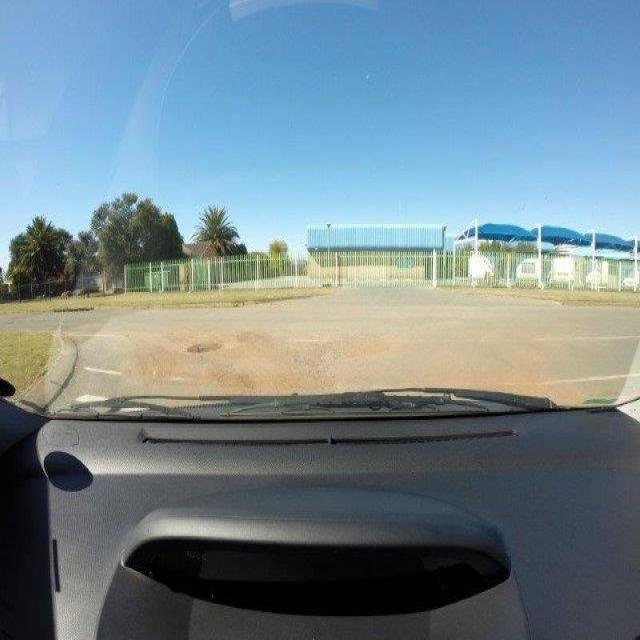lubang: (185, 336, 222, 359)
